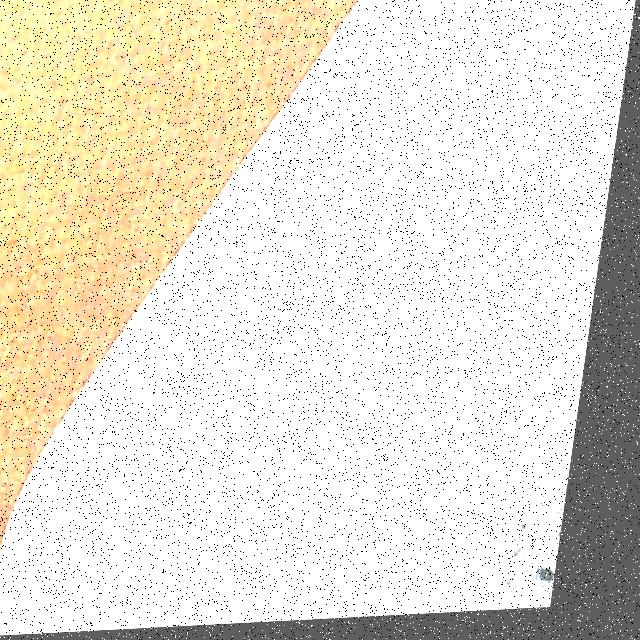adapter: (518, 484, 583, 616)
